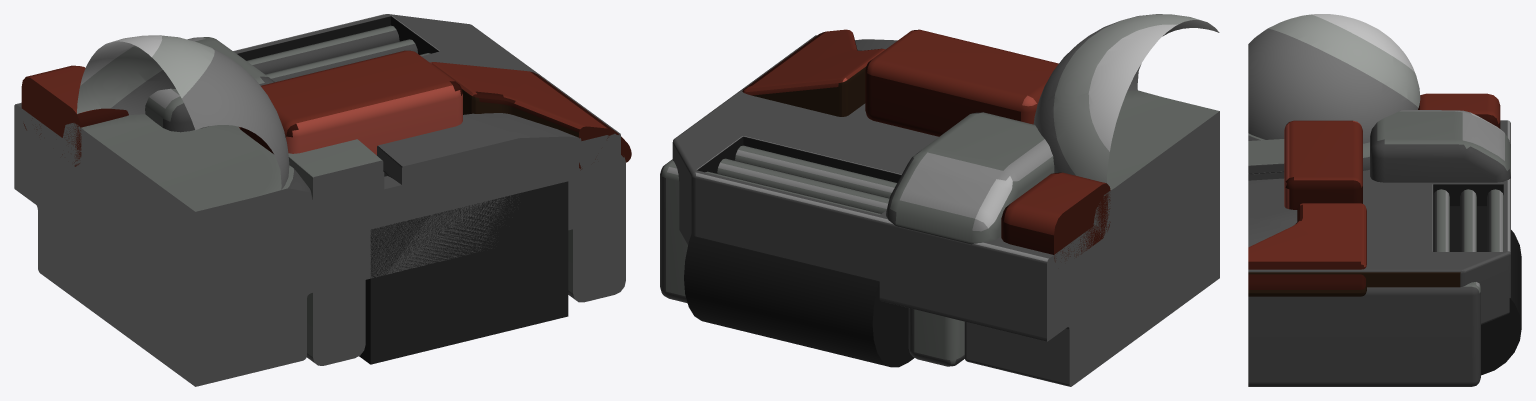
File: track_carrier_tr_243.glb
3 views of the same model, side by side, from view 1: azimuth 30°, elevation 25°; view 2: azimuth 150°, elevation 25°; view 3: azimuth 270°, elevation 25° (orthographic). The views are drawn at different scales.
Parts seen in each view (by area): view 1: track_carrier_tr_243; view 2: track_carrier_tr_243; view 3: track_carrier_tr_243.
Part boxes in pixels (box(x1,y1,x2,y2)): track_carrier_tr_243: box(14, 14, 631, 386); track_carrier_tr_243: box(660, 14, 1219, 386); track_carrier_tr_243: box(1248, 14, 1521, 386).
Bounding box in the file's own units: 22.3 × 15.6 × 16.7.
